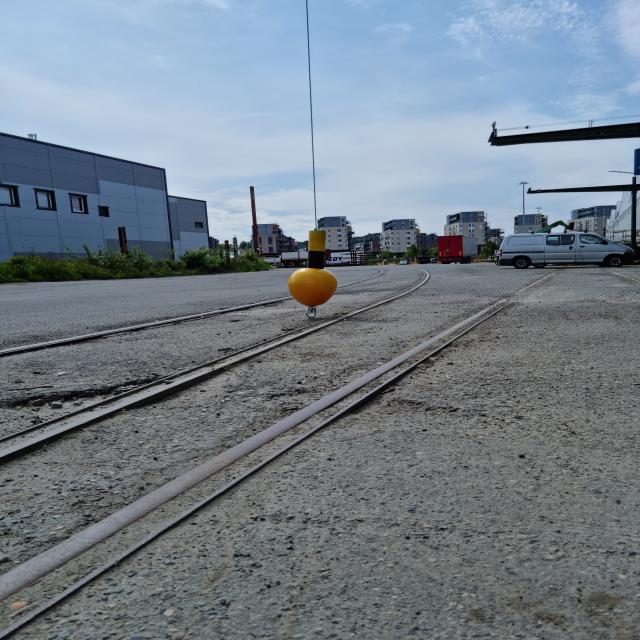west: (287, 229, 339, 305)
